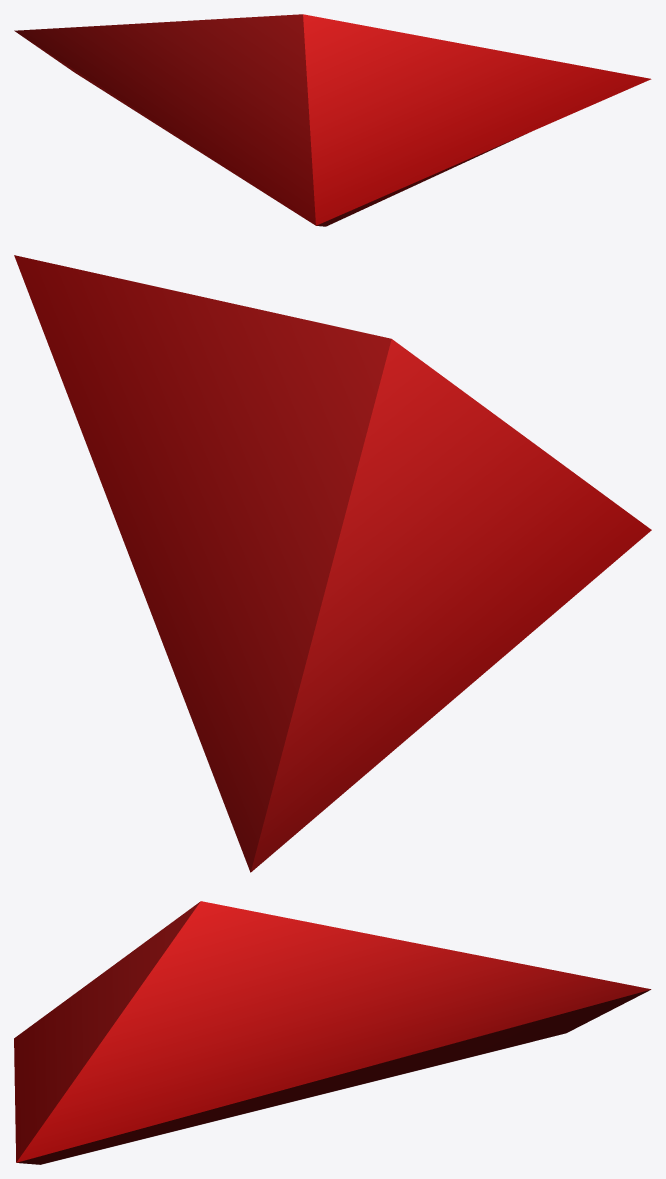
The model's file is c_roof_triangle_ad.fbx.
The picture shows the model from 3 angles, top to bottom: view 1: azimuth 30°, elevation 25°; view 2: azimuth 150°, elevation 25°; view 3: azimuth 270°, elevation 25°; orthographic projection. The views are drawn at different scales.
Parts seen in each view (by area): view 1: c_roof_triangle_ad; view 2: c_roof_triangle_ad; view 3: c_roof_triangle_ad.
Part boxes in pixels (x1,y1,x2,y2): c_roof_triangle_ad: (14,14,651,226); c_roof_triangle_ad: (14,255,651,872); c_roof_triangle_ad: (14,901,651,1164).
Bounding box in the file's own units: 7.87 × 3.07 × 9.19.
